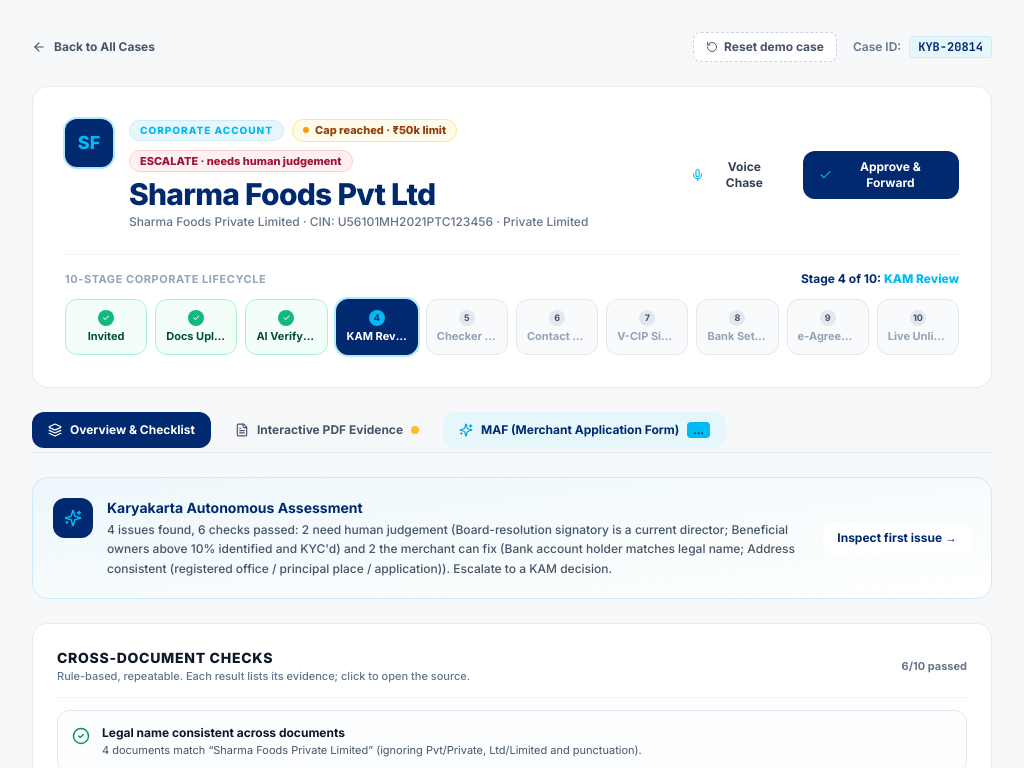
Test: Case overview (live case) › sends the voice chase on the chosen channel with the real open issue as the request
Click the button "Voice Chase" at coordinates (735, 174), box top-left (677, 150), bottom-right (793, 198)
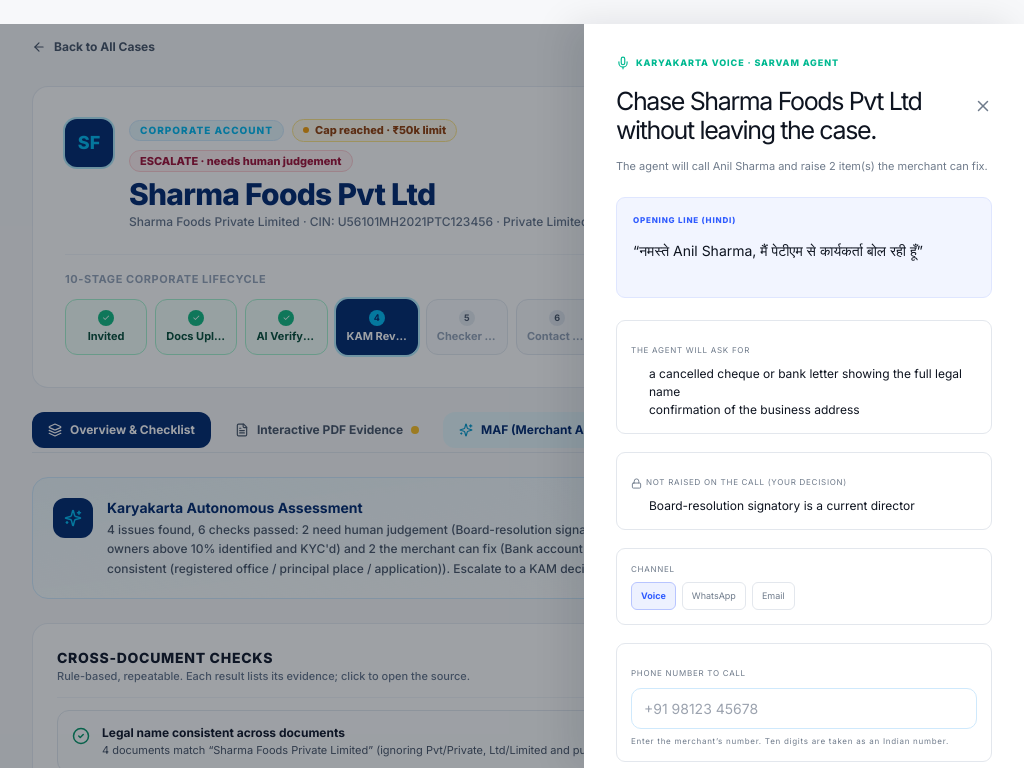
expect the text "The agent will call Anil Sharma and raise 2 item" is shown: met, box top-left (616, 158), bottom-right (988, 172)
expect the text "“नमस्ते Anil Sharma, मैं पेटीएम से कार्यकर्ता बोल रही हूँ”" is shown: met, box top-left (633, 242), bottom-right (923, 259)
expect the list item "a cancelled cheque or bank letter showing the full legal name" is shown: met, box top-left (649, 365), bottom-right (977, 401)
Click the button "WhatsApp" at coordinates (714, 596), box top-left (682, 582), bottom-right (746, 610)
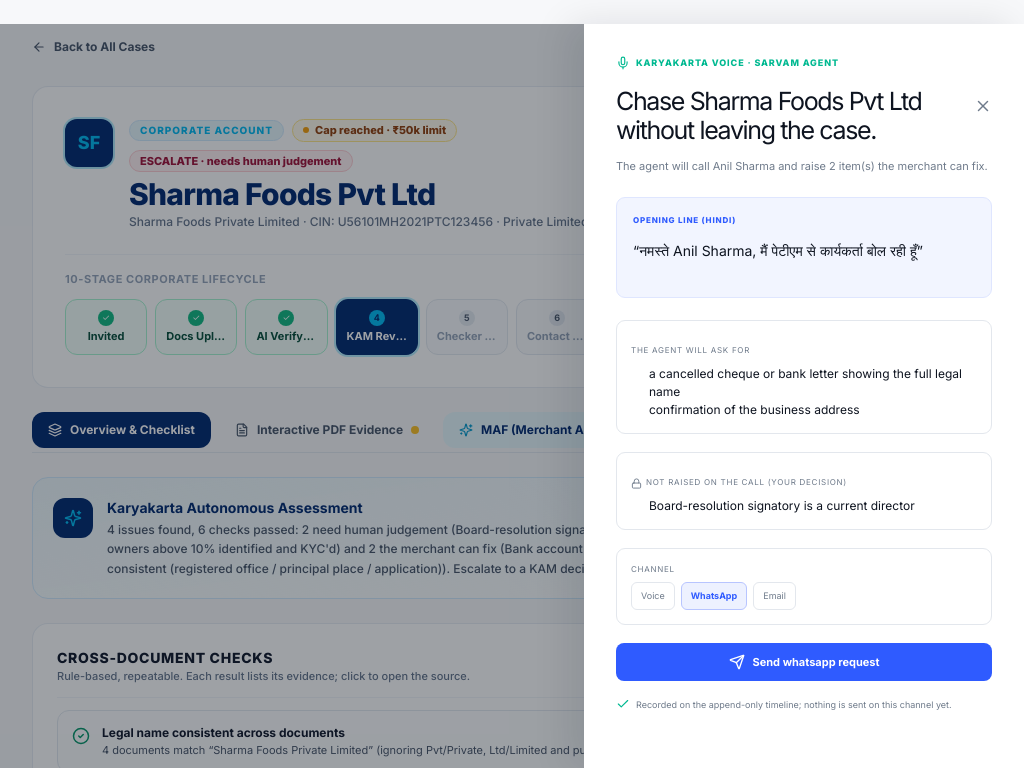
Click the button "Send whatsapp request" at coordinates (804, 662), box top-left (616, 643), bottom-right (992, 681)
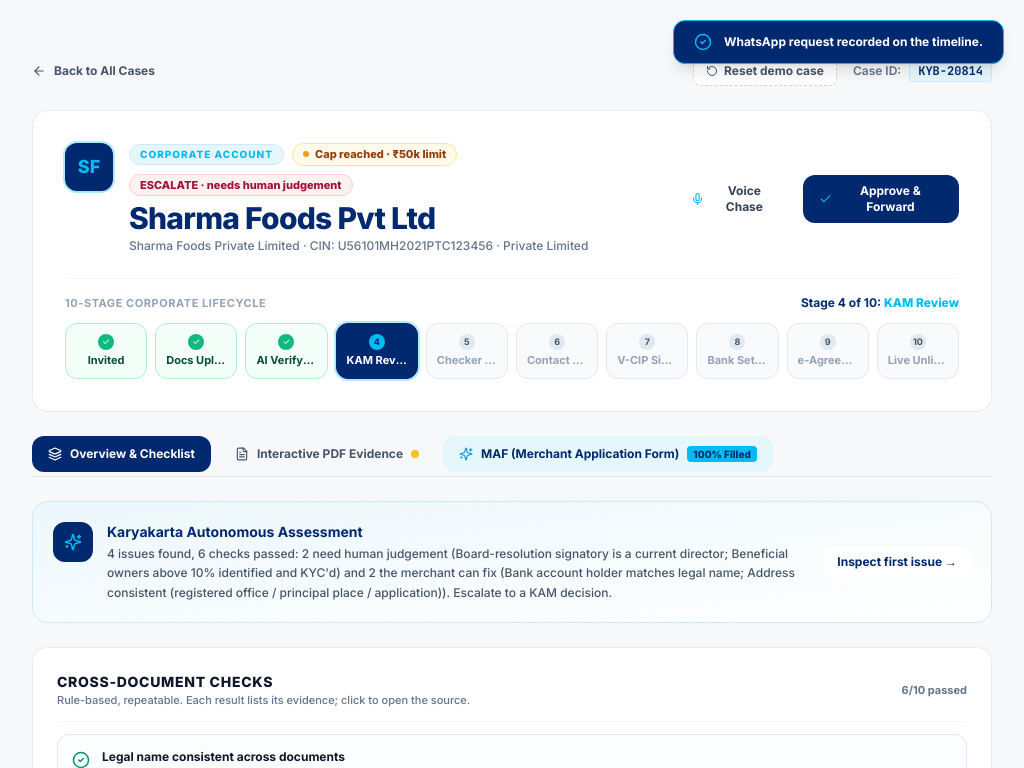
expect the text "WhatsApp request recorded on the timeline." is shown: met, box top-left (724, 34), bottom-right (983, 50)
